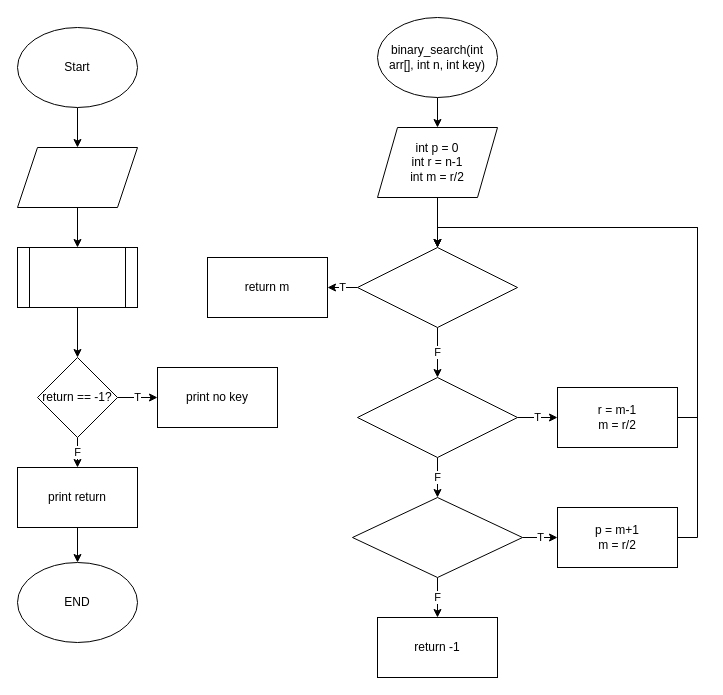
Some shapes in this 723 by 695 pixel diagram are drawn without their labels. Each missing label, with the centre of its shape:
arr[m] == key?: (437,287)
arr[m] > key?: (437,417)
arr[m]<key?: (437,537)
binary_search(int arr[], int n,int key): (77,277)
int arr[7] int n =7 int key: (77,177)
